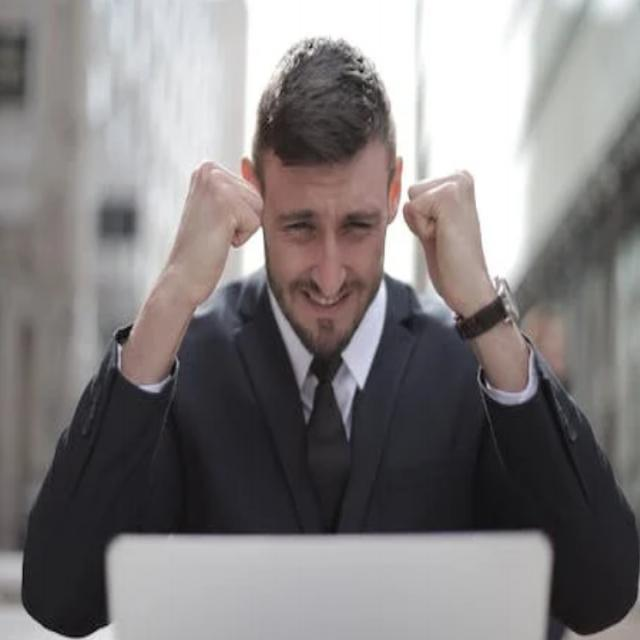Watch: (451, 273, 525, 343)
